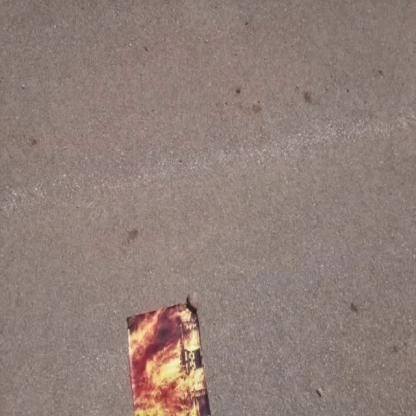fire-poster: (125, 295, 213, 415)
